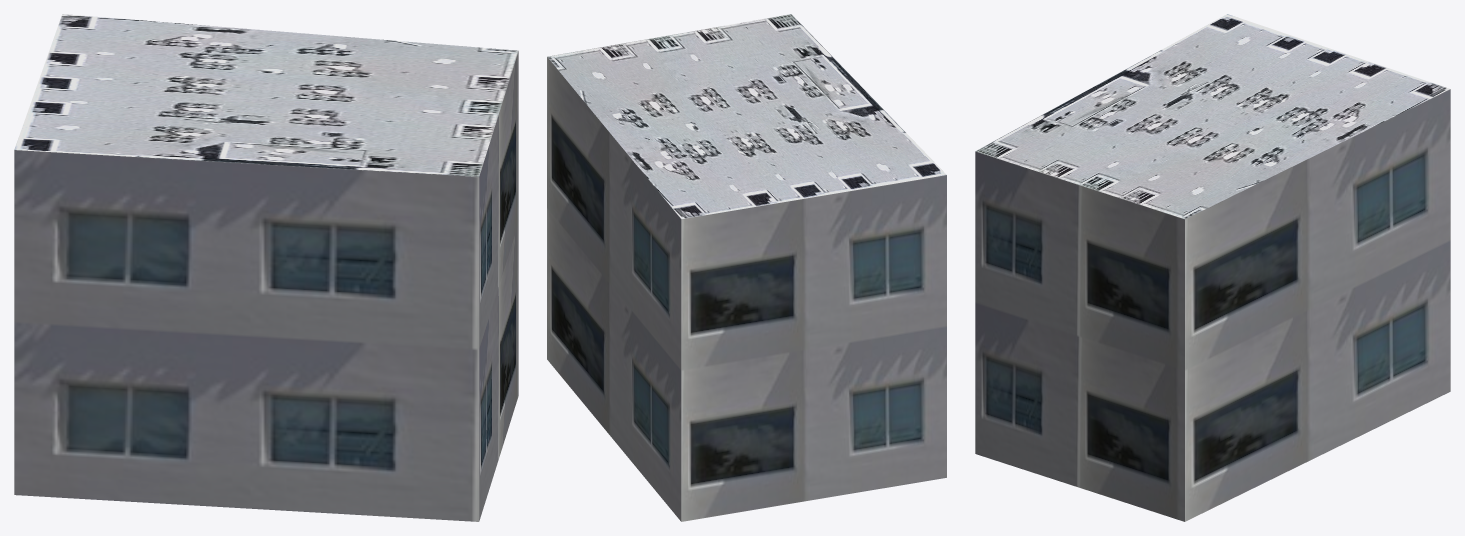
File: ResTex__2126.fbx
3 renders of one model, left to right at view 1: azimuth 30°, elevation 25°; view 2: azimuth 150°, elevation 25°; view 3: azimuth 270°, elevation 25°, orthographic. The views are drawn at different scales.
Parts seen in each view (by area): view 1: CityEngineMaterial_10_m, CityEngineMaterial_8_m; view 2: CityEngineMaterial_10_m, CityEngineMaterial_8_m; view 3: CityEngineMaterial_10_m, CityEngineMaterial_8_m.
Boxes of the visible parts, left/top/right/bottom form: CityEngineMaterial_10_m: left=14, top=51, right=518, bottom=521; CityEngineMaterial_8_m: left=14, top=14, right=518, bottom=176; CityEngineMaterial_10_m: left=547, top=57, right=946, bottom=521; CityEngineMaterial_8_m: left=547, top=14, right=946, bottom=219; CityEngineMaterial_10_m: left=975, top=89, right=1450, bottom=521; CityEngineMaterial_8_m: left=975, top=14, right=1450, bottom=219.
Bounding box in the file's own units: 8.74 × 6 × 8.55.
Materials: 2 (2 with a texture image).
